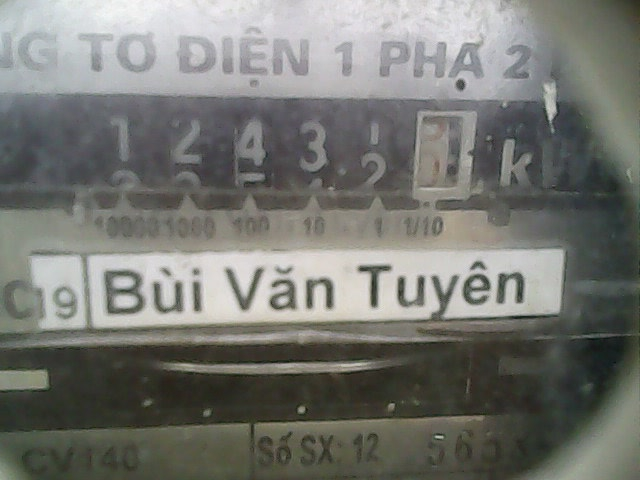phy_plate: (76, 91, 495, 222)
